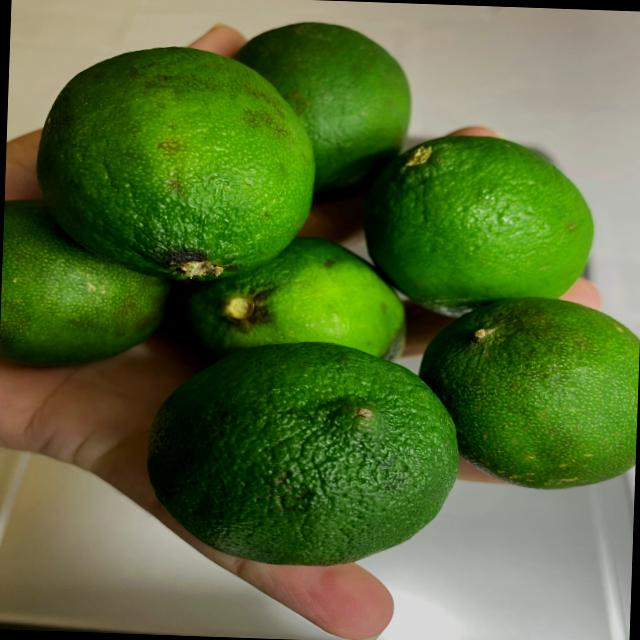lemon: (0, 9, 640, 572)
